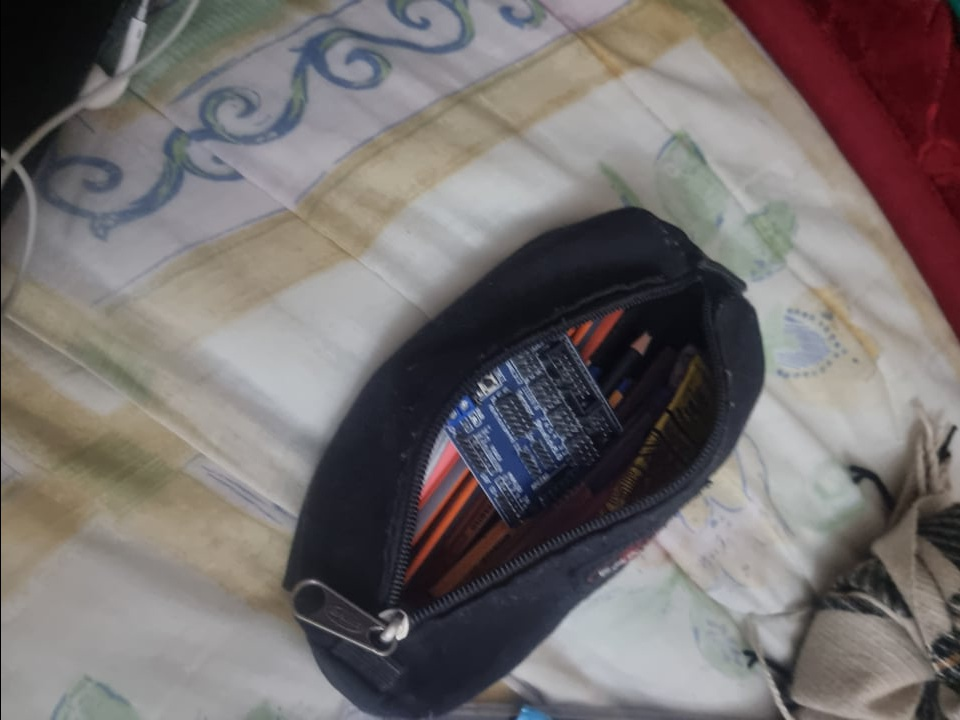5V EXPANSION: (444, 330, 622, 528)
